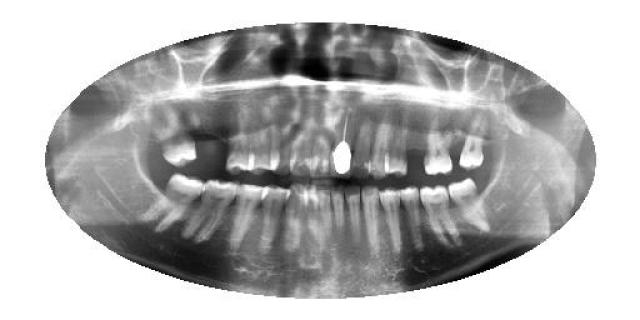Implant: (331, 104, 355, 180)
